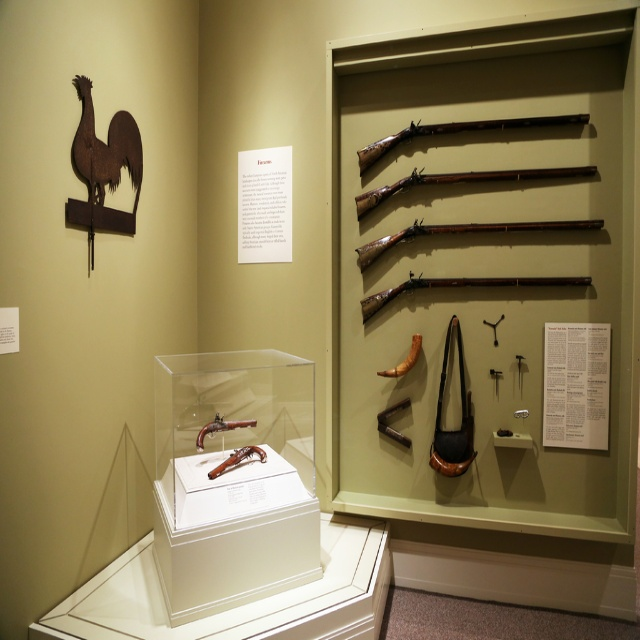Chicken: (67, 74, 133, 213)
